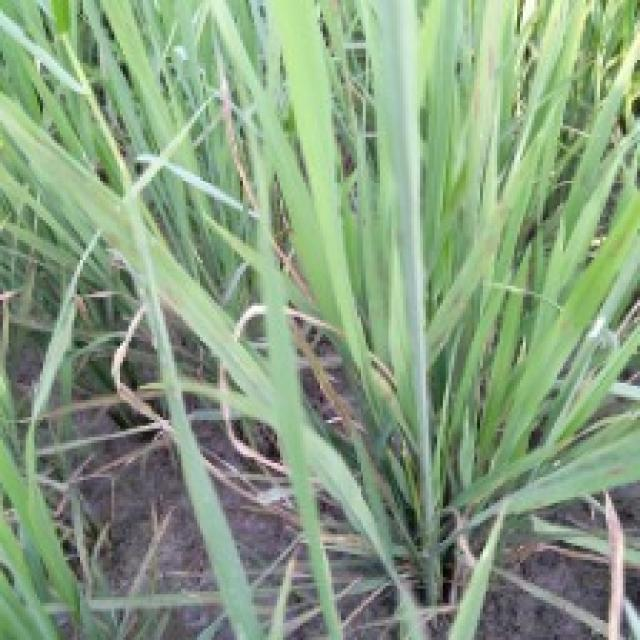Rice___Rice_Blast: (102, 136, 262, 637)
